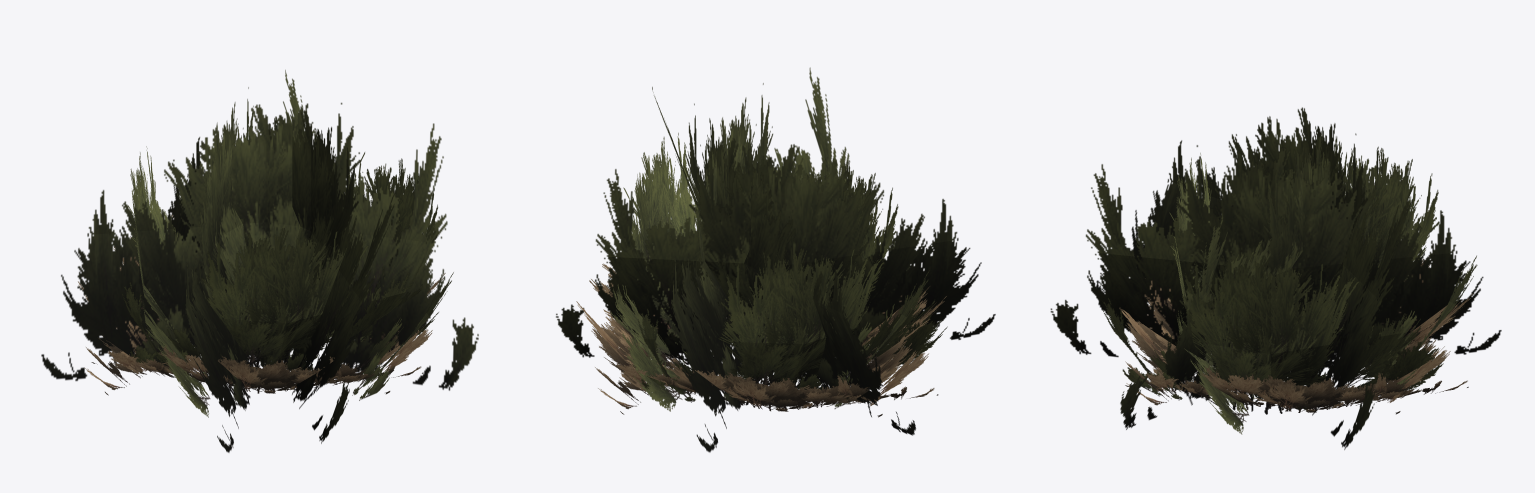
Rendered from Bush_E.glb.
The picture shows the model from 3 angles, left to right: view 1: azimuth 30°, elevation 25°; view 2: azimuth 150°, elevation 25°; view 3: azimuth 270°, elevation 25°; orthographic projection. The views are drawn at different scales.
Parts seen in each view (by area): view 1: BushE_LOD0; view 2: BushE_LOD0; view 3: BushE_LOD0.
Boxes of the visible parts, x1=… form: BushE_LOD0: x1=41, y1=70, x2=478, y2=452; BushE_LOD0: x1=556, y1=67, x2=995, y2=452; BushE_LOD0: x1=1050, y1=107, x2=1501, y2=449.
Size of what is drawn, in the model's own units: 2.05 by 1.36 by 2.09.
Materials: 1 (1 with a texture image).
